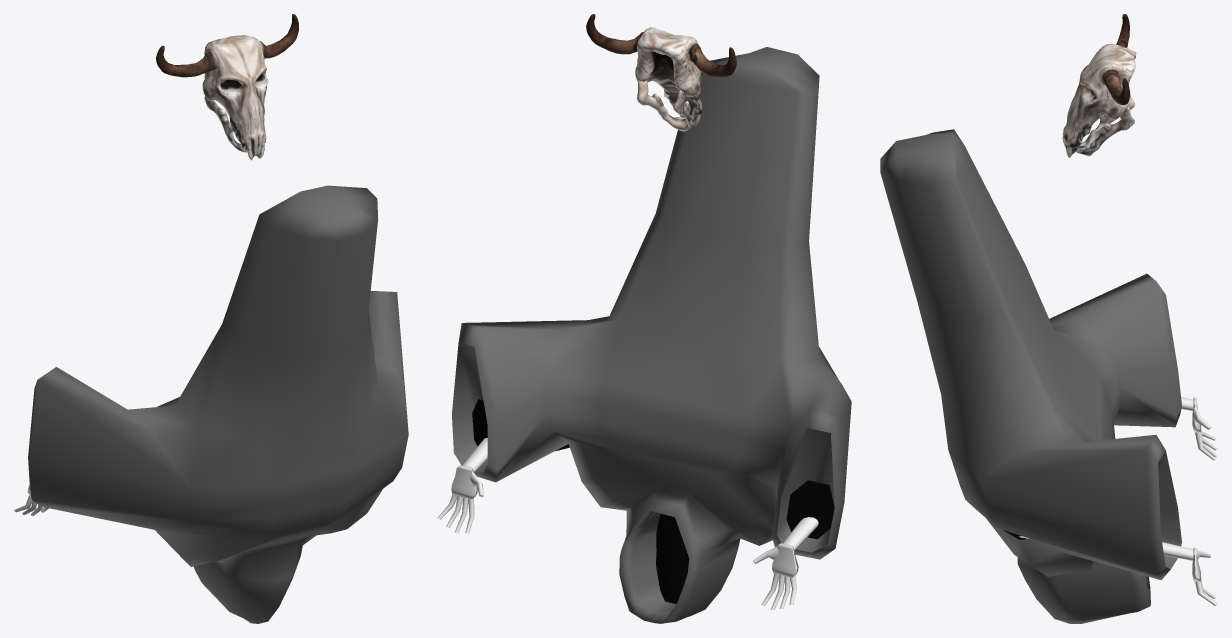
3 renders of one model, left to right at view 1: azimuth 30°, elevation 25°; view 2: azimuth 150°, elevation 25°; view 3: azimuth 270°, elevation 25°, orthographic. The views are drawn at different scales.
Parts seen in each view (by area): view 1: polySurface26_lambert2_0.001, Skull; view 2: polySurface26_lambert2_0.001, Skull, Jaw; view 3: polySurface26_lambert2_0.001, Skull, Jaw.
Boxes of the visible parts, x1,y1,x2,y2 form: polySurface26_lambert2_0.001: [14, 185, 408, 623]; Skull: [156, 14, 298, 160]; polySurface26_lambert2_0.001: [437, 47, 851, 623]; Skull: [586, 14, 736, 125]; Jaw: [637, 80, 694, 131]; polySurface26_lambert2_0.001: [880, 129, 1217, 623]; Skull: [1062, 14, 1136, 157]; Jaw: [1076, 89, 1134, 156].
Size of the model in its own units: 105 by 154 by 82.11.
3 materials, 3 textured.
